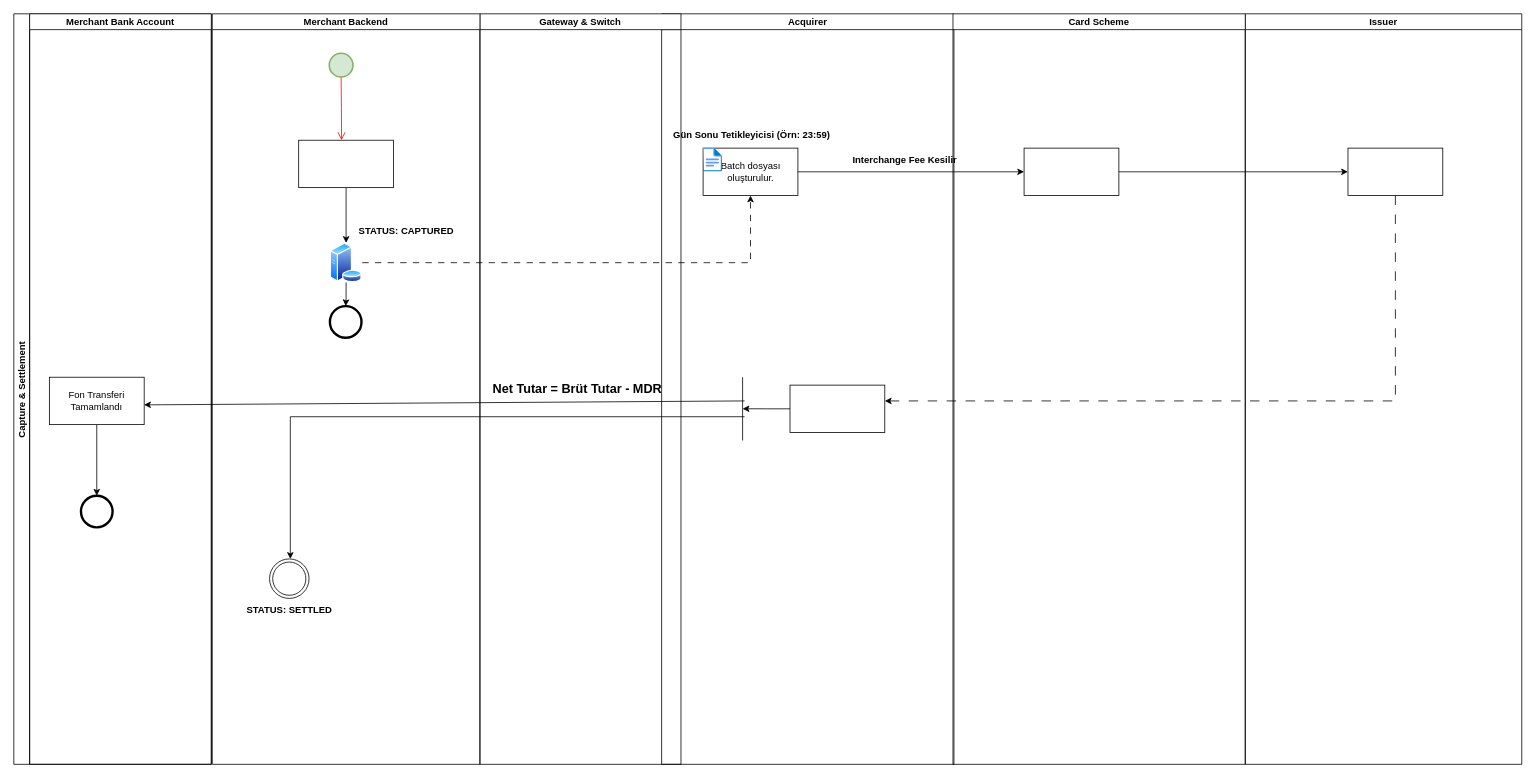
Image size: 1536x778. Some labels were removed from this diagram. Here are the shapes that lost their labels. From the top down, the centre of each, then its label:
At point 345,163: "Capture İsteği Atılır".
At point 1071,171: "Takas ve Komisyon Hesaplama".
At point 1395,171: "Ekstre Yansıtma".
At point 837,408: "Komisyon Kesintisi & Fon Transferi Hazırlığı".
